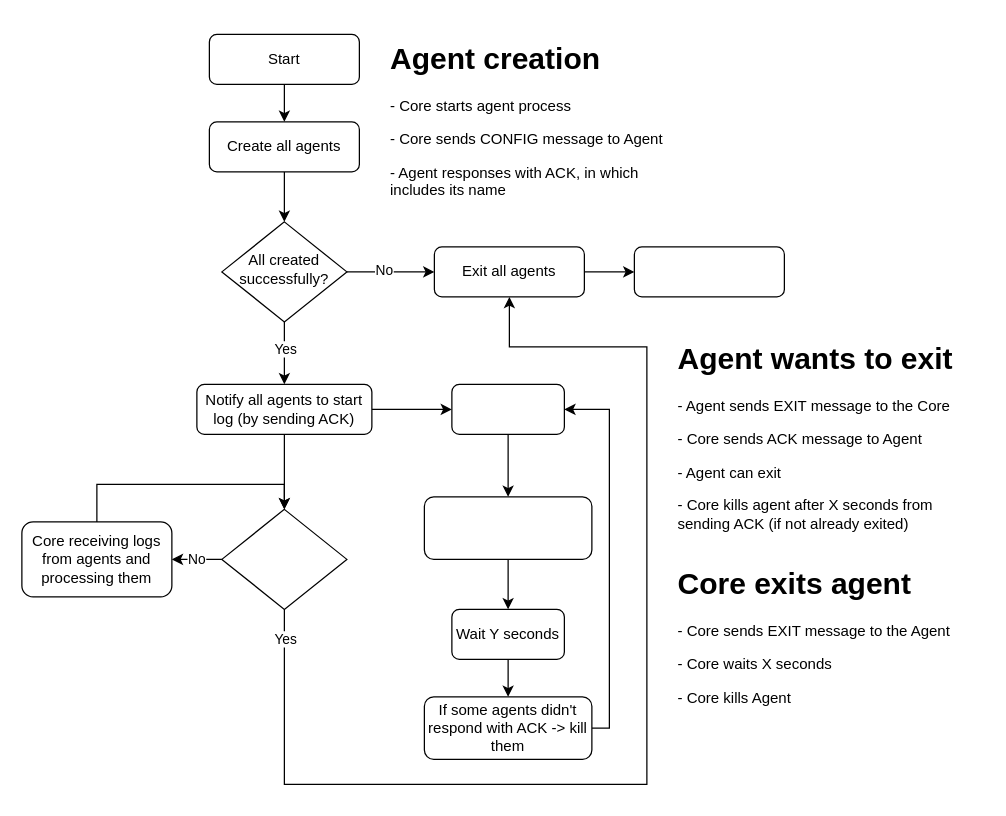
Some shapes in this 1006 by 816 pixel diagram are drawn without their labels. The centre of each missing label's shape, as x and y in pixels:
"Check if all agents working (by sending IS_ALIVE)" belongs at point (507, 527).
"End" belongs at point (708, 271).
"Is interrupt?" belongs at point (284, 558).
"Wait X seconds" belongs at point (507, 408).
